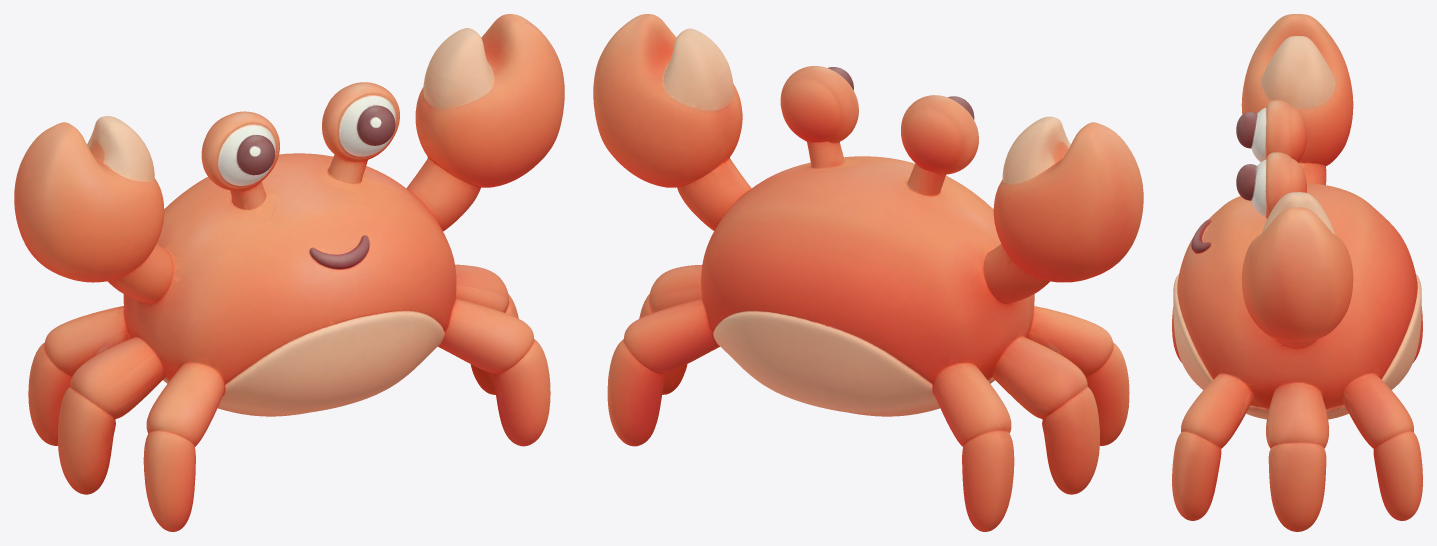
Rendered from Granchio.glb.
3 renders of one model, left to right at view 1: azimuth 30°, elevation 25°; view 2: azimuth 150°, elevation 25°; view 3: azimuth 270°, elevation 25°, orthographic. The views are drawn at different scales.
Bounding box in the file's own units: 1.9 × 1.27 × 0.8688.
Materials: 1 (1 with a texture image).
